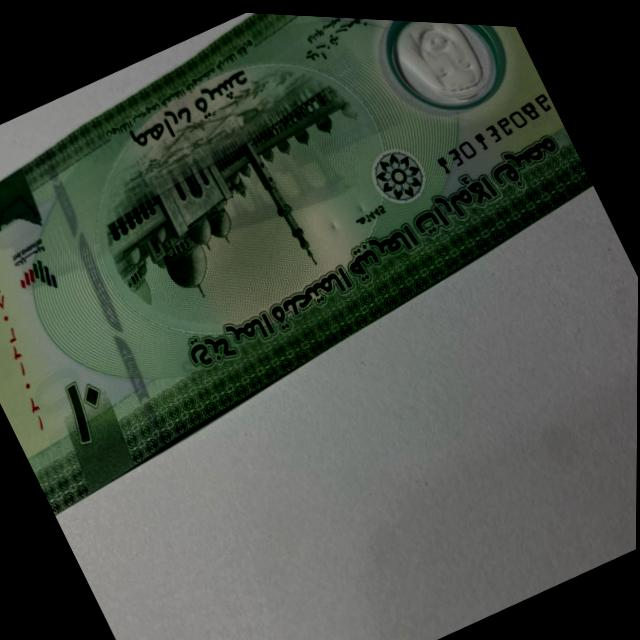10_AED: (0, 13, 592, 519)
